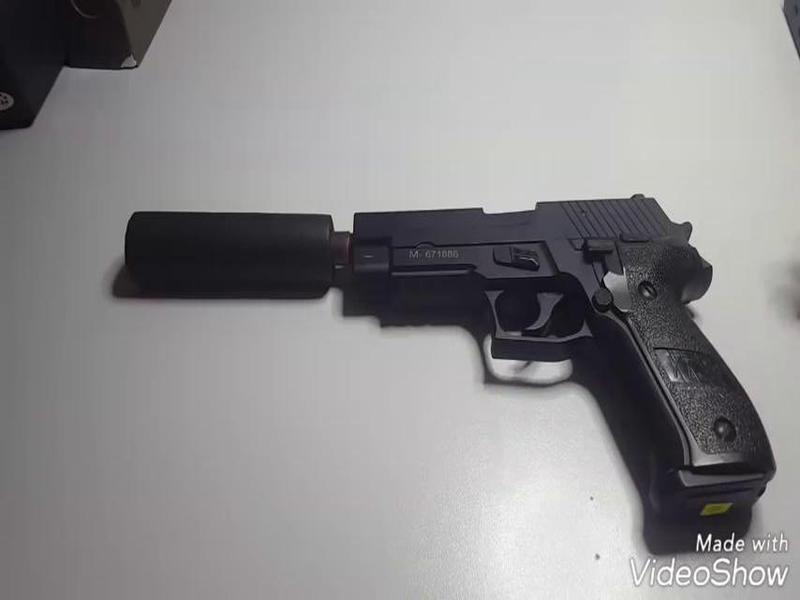Pistola: (95, 154, 782, 515)
